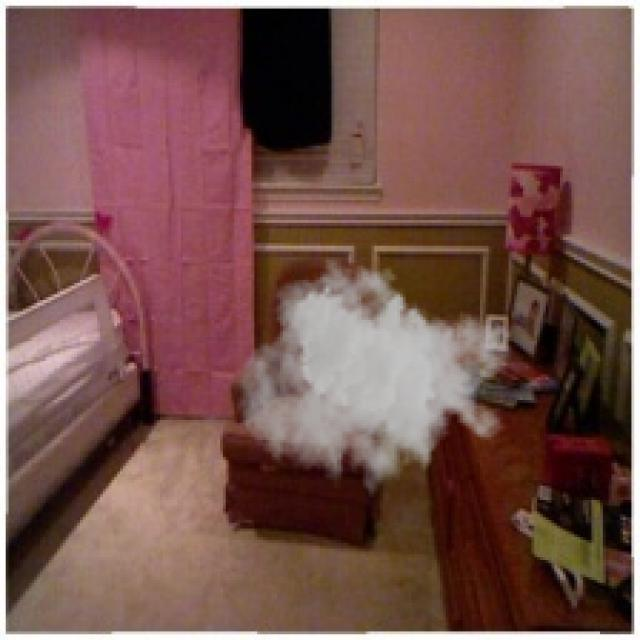Smoke: (237, 257, 514, 509)
